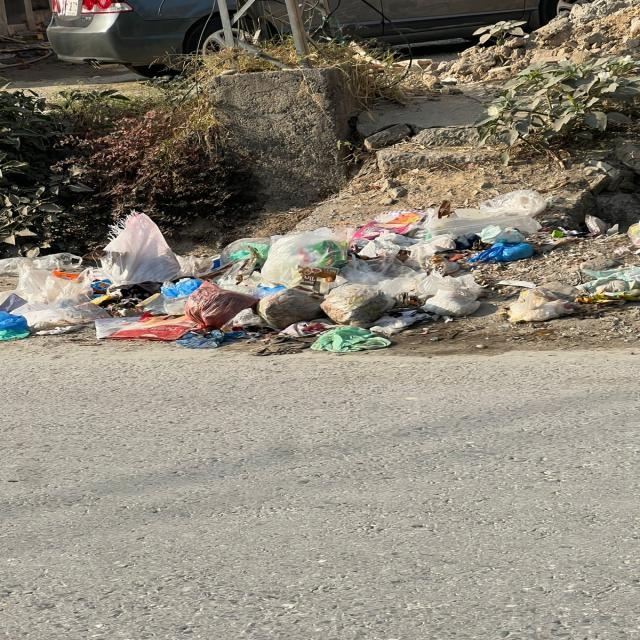garbage: (2, 195, 640, 349)
